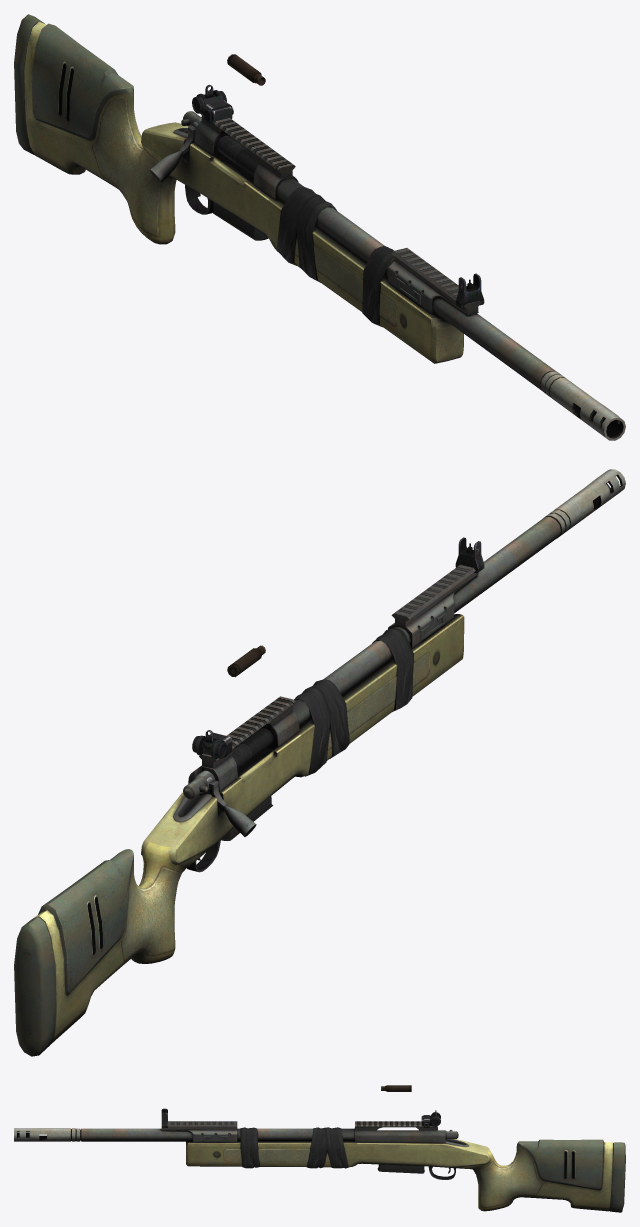
3 renders of one model, top to bottom at view 1: azimuth 30°, elevation 25°; view 2: azimuth 150°, elevation 25°; view 3: azimuth 270°, elevation 25°, orthographic. The views are drawn at different scales.
Visible parts, largest first — view 1: Mesh_0014, Mesh_0015, BOLT, Mesh_0018, Mesh_0020, MAG; view 2: Mesh_0014, Mesh_0015, BOLT, Mesh_0018; view 3: Mesh_0014, Mesh_0015, MAG, Mesh_0018, CASING.
Part boxes in pixels (bbox=[...]): Mesh_0014: bbox=[14, 14, 625, 440]; Mesh_0015: bbox=[276, 186, 394, 327]; BOLT: bbox=[149, 111, 260, 182]; Mesh_0018: bbox=[192, 84, 233, 125]; Mesh_0020: bbox=[455, 273, 484, 309]; MAG: bbox=[212, 201, 268, 240]; Mesh_0014: bbox=[14, 469, 625, 1056]; Mesh_0015: bbox=[294, 627, 413, 776]; BOLT: bbox=[183, 728, 273, 836]; Mesh_0018: bbox=[192, 730, 232, 759]; Mesh_0014: bbox=[14, 1121, 625, 1212]; Mesh_0015: bbox=[240, 1127, 348, 1168]; MAG: bbox=[377, 1164, 424, 1173]; Mesh_0018: bbox=[421, 1110, 440, 1127]; CASING: bbox=[381, 1085, 411, 1091].
Bounding box in the file's own units: 8.05 × 26.02 × 114.
Materials: 5 (5 with a texture image).
